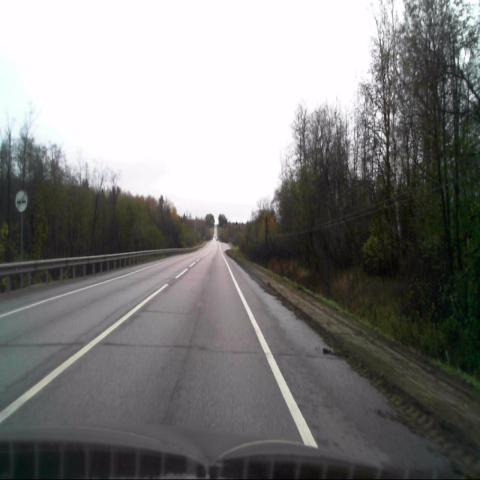3_21: (14, 190, 28, 213)
